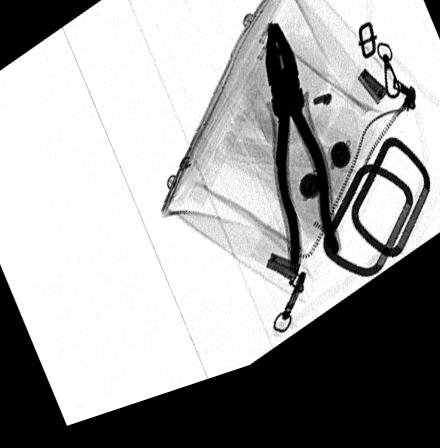Pliers: (263, 40, 339, 291)
